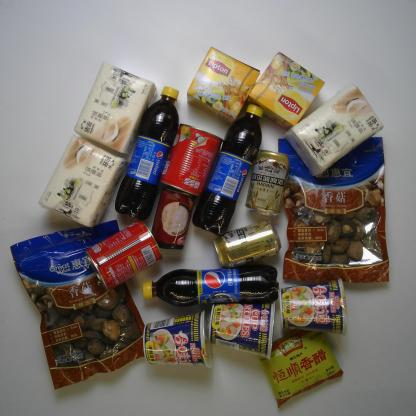Alcohol: (210, 220, 280, 268), (245, 149, 289, 217)
Canned Food: (86, 221, 165, 290), (160, 118, 224, 197), (153, 186, 194, 250)
Dried Food: (9, 217, 153, 390), (274, 129, 392, 286)
Drink: (192, 102, 264, 237), (116, 86, 180, 219), (143, 264, 278, 305)
Instant Drink: (248, 51, 326, 129), (184, 45, 259, 124)
Instant Noodles: (207, 299, 277, 361), (277, 278, 349, 337), (144, 310, 216, 368)
Seasoner: (257, 325, 342, 409)
Tissue: (284, 84, 384, 180), (39, 136, 129, 228), (73, 61, 158, 155)
